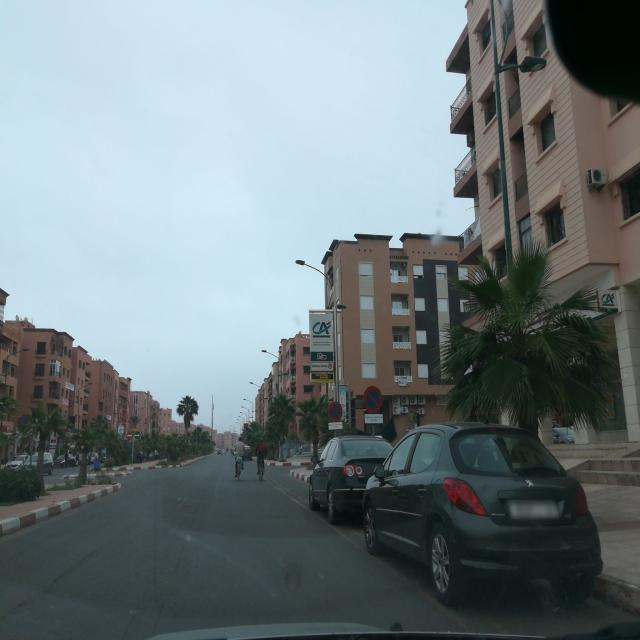forb_stopping: (362, 385, 383, 414), (327, 402, 342, 423)
